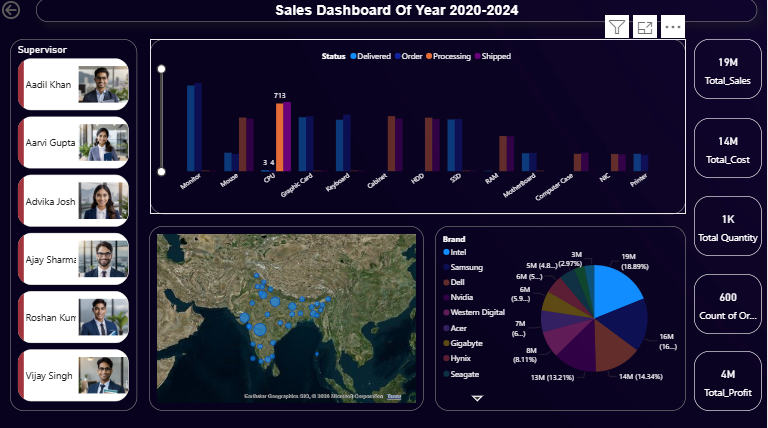

This screenshot's page, from the dashboard's own definition file:
{"tool":"powerbi","page":{"name":"Page 1","canvas":[1280,720],"ordinal":0},"visuals":[{"type":"textbox","box":[18,0,1246,40],"z":0},{"type":"card","fields":{"Values":["Sales_Data.Total_Profit"]},"box":[1158.6,588.6,112.9,100],"z":1000},{"type":"card","fields":{"Values":["CountNonNull(Sales_Data.Order_Number)"]},"box":[1158.3,460,113.3,100],"z":2000},{"type":"card","fields":{"Values":["Sum(Sales_Data.Quantity)"]},"box":[1158.6,330,112.9,100],"z":3000},{"type":"card","fields":{"Values":["Sum(Sales_Data.Total_Cost)"]},"box":[1158.6,200,112.9,100],"z":4000},{"type":"card","fields":{"Values":["Sum(Sales_Data.Total_Sales)"]},"box":[1158.6,68.6,112.9,100],"z":5000},{"type":"actionButton","box":[0,0,100,40],"z":6000},{"type":"clusteredColumnChart","fields":{"Y":["Sum(Sales_Data.Quantity)"],"Category":["Sales_Data.Category"],"Series":["Sales_Data.Status"]},"box":[251.7,68.3,893.3,291.7],"z":7000},{"type":"pieChart","fields":{"Y":["Sum(Sales_Data.Total_Sales)"],"Category":["Sales_Data.Brand"]},"box":[726,380,418,308],"z":8000},{"type":"map","fields":{"Category":["State_list.State"],"Size":["Sum(Sales_Data.Sales)"]},"box":[250,380,458,308],"z":9000},{"type":"advancedSlicerVisual","fields":{"Values":["Supervisor.Supervisor"]},"box":[18.3,68.3,211.7,620],"z":10000}]}

Visuals, with their boxes in screenshot pixels (x1, y1, x2, y2), scaled from the page's 1280x720 canvas onto the 768x428 screenshot:
textbox: x1=11, y1=0, x2=758, y2=24
card - Sales_Data.Total_Profit: x1=695, y1=350, x2=763, y2=409
card - CountNonNull(Sales_Data.Order_Number): x1=695, y1=273, x2=763, y2=333
card - Sum(Sales_Data.Quantity): x1=695, y1=196, x2=763, y2=256
card - Sum(Sales_Data.Total_Cost): x1=695, y1=119, x2=763, y2=178
card - Sum(Sales_Data.Total_Sales): x1=695, y1=41, x2=763, y2=100
actionButton: x1=0, y1=0, x2=60, y2=24
clusteredColumnChart - Sum(Sales_Data.Quantity) x Sales_Data.Category: x1=151, y1=41, x2=687, y2=214
pieChart - Sum(Sales_Data.Total_Sales) x Sales_Data.Brand: x1=436, y1=226, x2=686, y2=409
map - State_list.State x Sum(Sales_Data.Sales): x1=150, y1=226, x2=425, y2=409
advancedSlicerVisual - Supervisor.Supervisor: x1=11, y1=41, x2=138, y2=409
